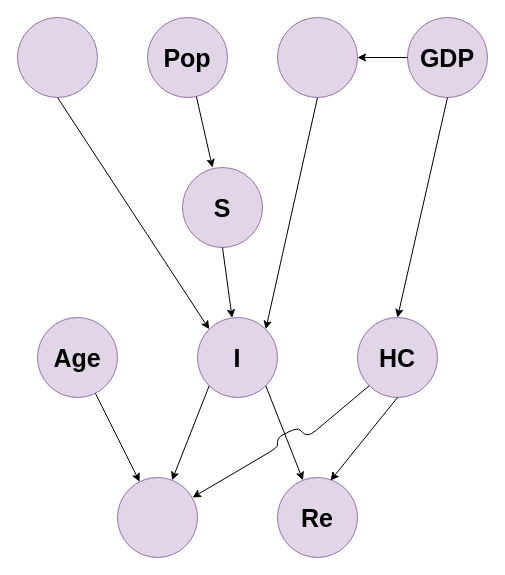
Image size: 505x575. Some labels were removed from this diagram. The shapes that lost their labels are listed below. From the top down, each one's box as (x1, y1, x2, y2) in pixels, then its label:
(16, 16, 98, 98): Dens
(276, 16, 358, 98): RP
(116, 476, 198, 558): De
